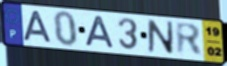0: (50, 10, 80, 48)
3: (116, 17, 139, 52)
A: (84, 14, 116, 50), (21, 10, 53, 44)
N: (146, 18, 175, 56)
R: (173, 20, 205, 58)
